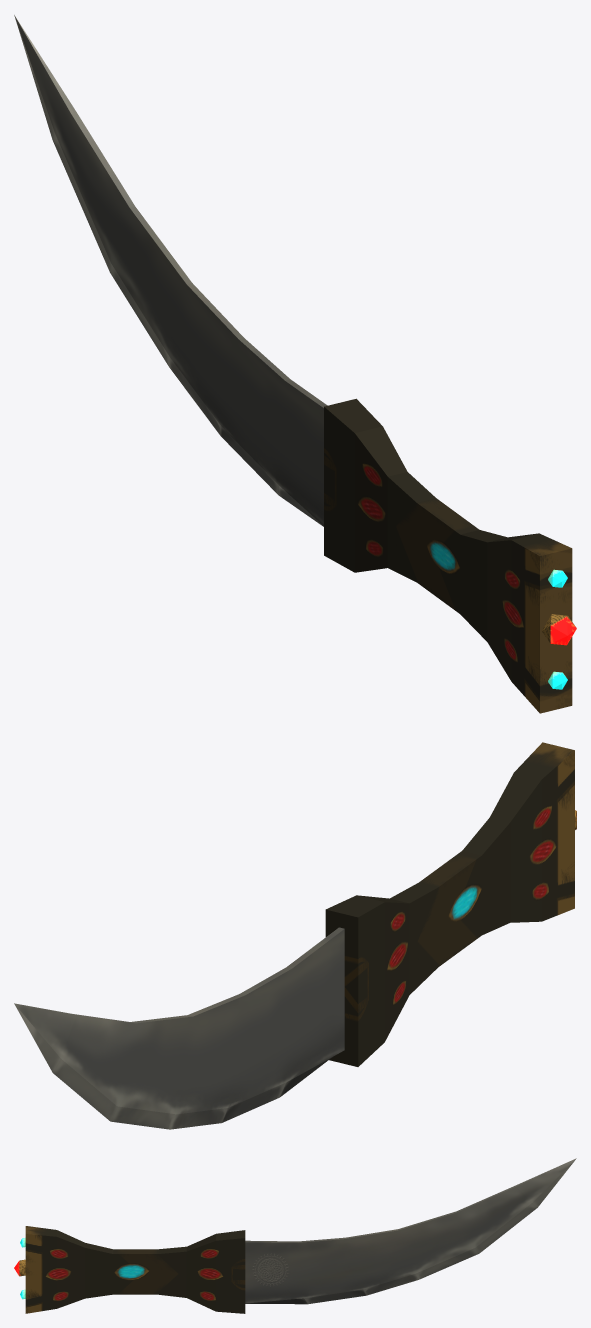
File: Khanjar-textured.fbx
3 views of the same model, one above another, from view 1: azimuth 30°, elevation 25°; view 2: azimuth 150°, elevation 25°; view 3: azimuth 270°, elevation 25° (orthographic). The views are drawn at different scales.
Visible parts, largest first — view 1: Handle, Steel; view 2: Steel, Handle; view 3: Steel, Handle.
Part boxes in pixels (x1,y1,x2,y2): Handle: (324, 398, 572, 713); Steel: (14, 15, 327, 526); Steel: (14, 927, 344, 1129); Handle: (325, 742, 574, 1066); Steel: (245, 1158, 576, 1304); Handle: (25, 1226, 245, 1313).
Bounding box in the file's own units: 17.98 × 158 × 532.
Materials: 4 (4 with a texture image).
